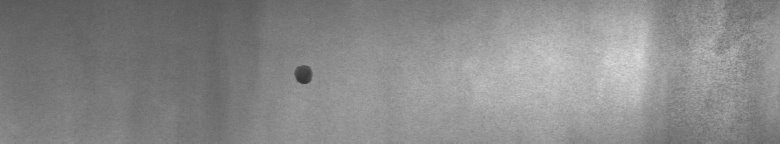fi: (288, 58, 317, 92)
